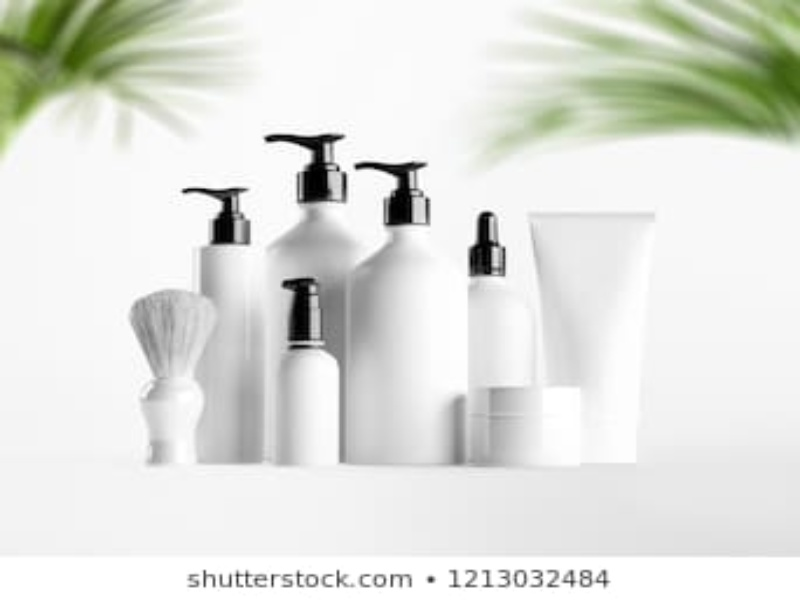shampoo-bottle: (344, 160, 473, 464), (526, 206, 650, 466), (184, 180, 275, 464), (259, 129, 378, 323), (266, 273, 344, 464), (465, 209, 542, 391)
